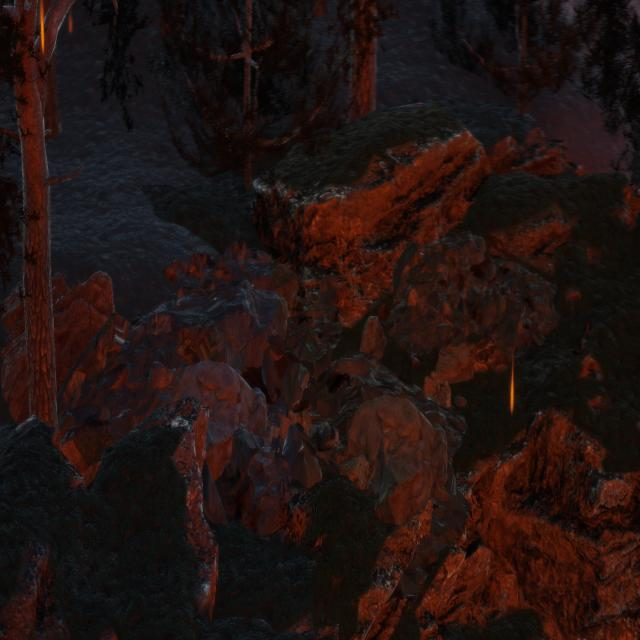Human: (281, 377, 338, 445)
